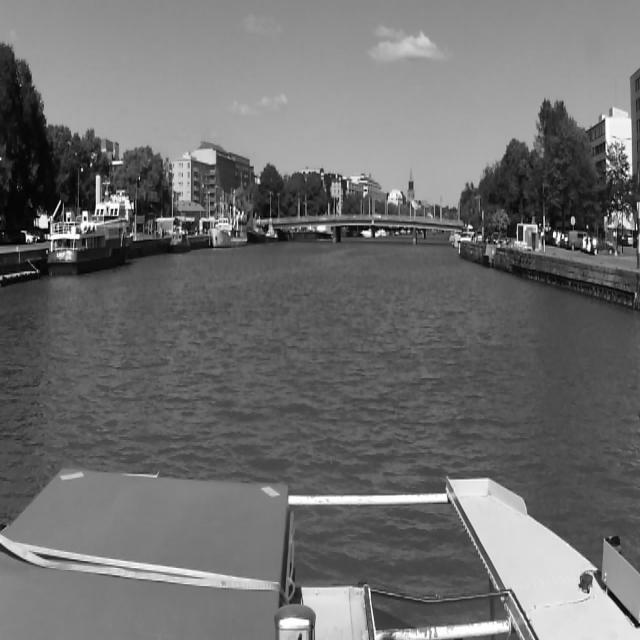ship: (46, 180, 136, 276), (210, 209, 248, 248), (169, 232, 191, 254), (248, 226, 266, 244), (265, 226, 279, 242)
